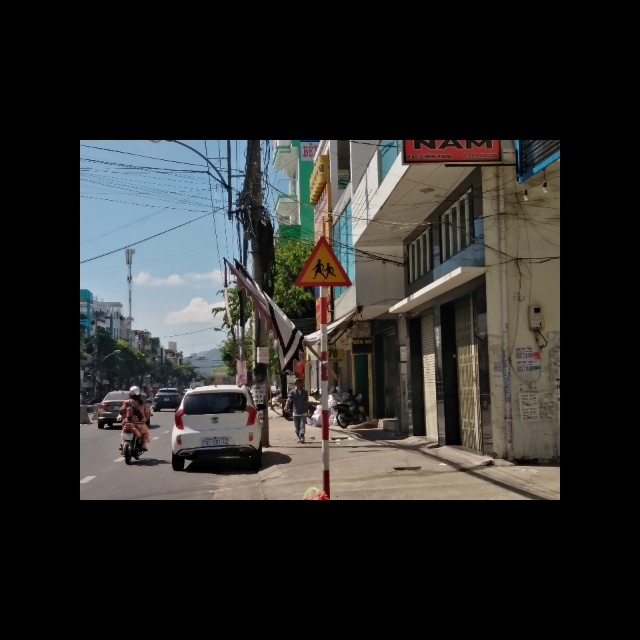Trẻ em ngang qua: (291, 234, 355, 288)
